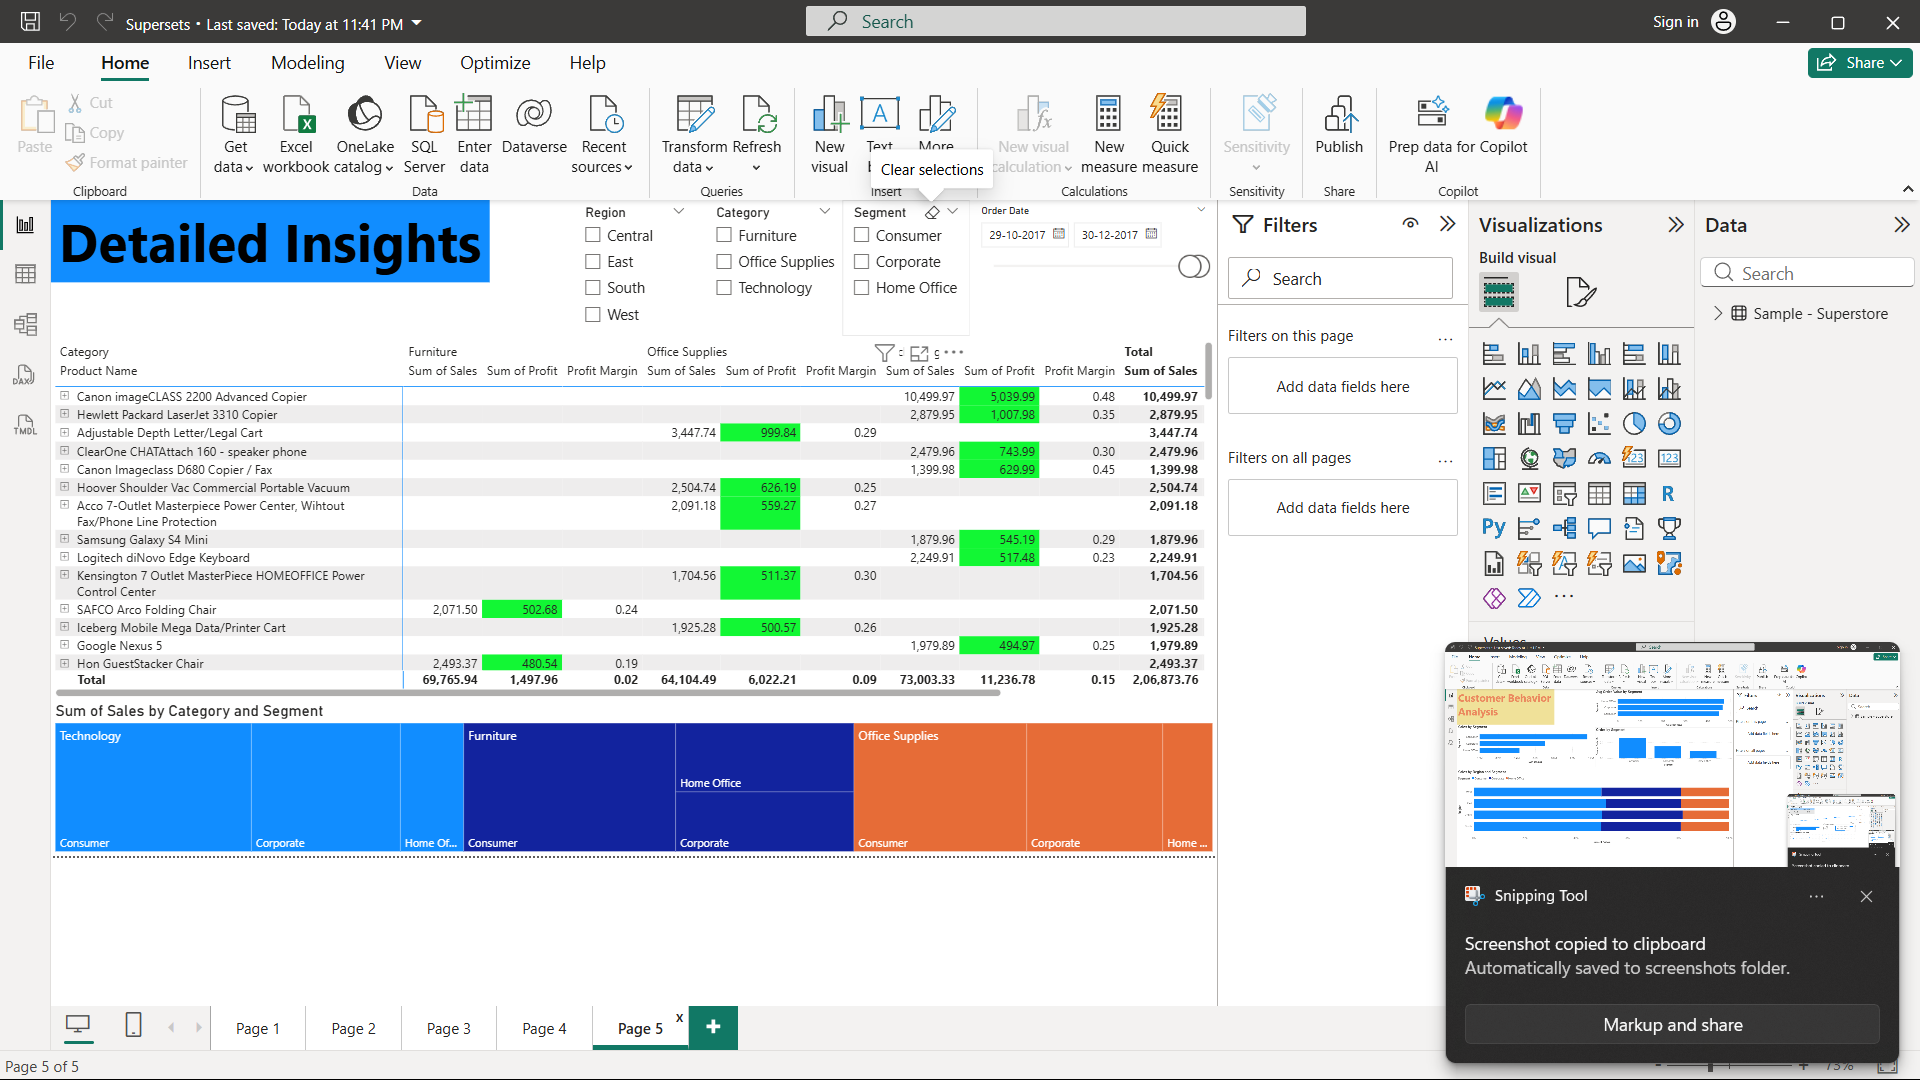

Layout of this report page (visuals, bound fields, positions):
{"tool":"powerbi","page":{"name":"Page 5","canvas":[1280,720],"ordinal":4},"visuals":[{"type":"pivotTable","fields":{"Rows":["Sample - Superstore.Product Name","Sample - Superstore.Sub-Category"],"Columns":["Sample - Superstore.Category"],"Values":["Sum(Sample - Superstore.Sales)","Sum(Sample - Superstore.Profit)","Sample - Superstore.Profit Margin"]},"box":[0,150.9,1280.3,399.3],"z":0},{"type":"slicer","fields":{"Values":["Sample - Superstore.Region"]},"box":[573.6,0,134.5,150.9],"z":1000},{"type":"slicer","fields":{"Values":["Sample - Superstore.Category"]},"box":[717.7,0,150.9,150.9],"z":2000},{"type":"slicer","fields":{"Values":["Sample - Superstore.Segment"]},"box":[868.6,0,140,149.6],"z":3000},{"type":"slicer","fields":{"Values":["Sample - Superstore.Order Date"]},"box":[1008.6,0,271.7,149.6],"z":4000},{"type":"treemap","fields":{"Values":["Sum(Sample - Superstore.Sales)"],"Group":["Sample - Superstore.Category","Sample - Superstore.Region"],"Details":["Sample - Superstore.Segment"]},"box":[0,550.3,1280.3,170.2],"z":5000},{"type":"textbox","box":[0,0,481.6,90.6],"z":5001}]}

Visuals, with their boxes on the page's 1280x720 design canvas (x1, y1, x2, y2). These are canvas units, not pixel positions in the 1920x1080 screenshot, which may show the page scaled, cropped or inside an application window:
pivotTable - Sample - Superstore.Product Name x Sample - Superstore.Sub-Category: crop(0, 151, 1280, 550)
slicer - Sample - Superstore.Region: crop(574, 0, 708, 151)
slicer - Sample - Superstore.Category: crop(718, 0, 869, 151)
slicer - Sample - Superstore.Segment: crop(869, 0, 1009, 150)
slicer - Sample - Superstore.Order Date: crop(1009, 0, 1280, 150)
treemap - Sum(Sample - Superstore.Sales) x Sample - Superstore.Category: crop(0, 550, 1280, 720)
textbox: crop(0, 0, 482, 91)
